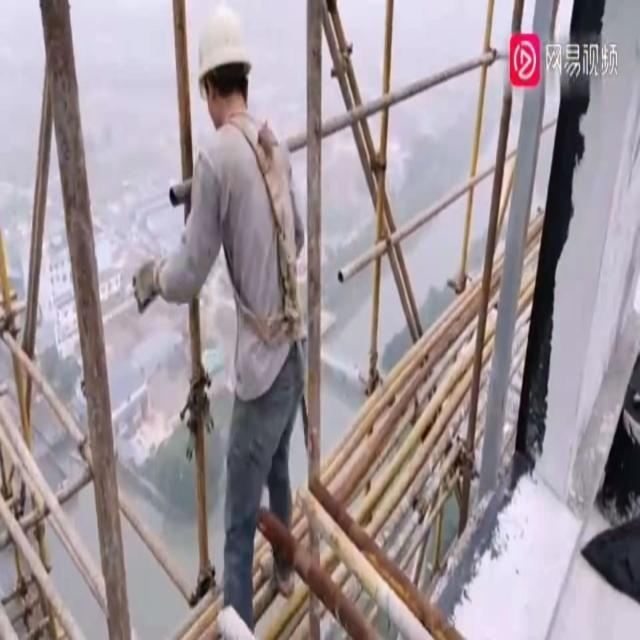Arnes_seguridad: (203, 108, 303, 363)
